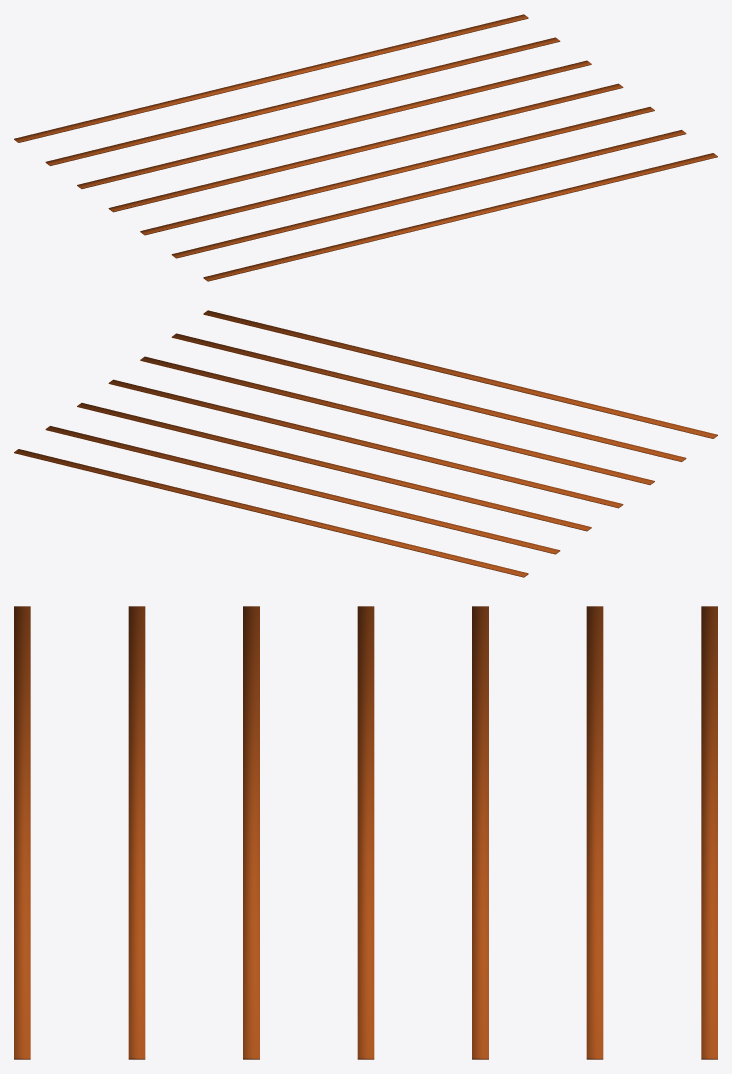
The model's file is 70_L99_Factory_Copper_Reference.fbx.
3 renders of one model, top to bottom at view 1: azimuth 30°, elevation 25°; view 2: azimuth 150°, elevation 25°; view 3: azimuth 270°, elevation 25°, orthographic. The views are drawn at different scales.
Parts seen in each view (by area): view 1: Part_000, Part_001, Part_005, Part_006, Part_002, Part_003, Part_004; view 2: Part_000, Part_001, Part_005, Part_006, Part_002, Part_003, Part_004; view 3: Part_001, Part_003, Part_005, Part_000, Part_002, Part_004, Part_006.
Boxes of the visible parts, x1,y1,x2,y2 form: Part_000: (203,153,717,281); Part_001: (171,130,686,258); Part_005: (45,37,560,165); Part_006: (14,14,528,142); Part_002: (140,107,654,235); Part_003: (108,83,623,212); Part_004: (77,60,591,188); Part_000: (203,310,717,438); Part_001: (171,333,686,461); Part_005: (45,426,560,554); Part_006: (14,449,528,577); Part_002: (140,356,654,484); Part_003: (108,379,623,508); Part_004: (77,403,591,531); Part_001: (128,606,145,1059); Part_003: (357,606,374,1059); Part_005: (586,606,603,1059); Part_000: (14,606,30,1059); Part_002: (243,606,259,1059); Part_004: (472,606,488,1059); Part_006: (701,606,717,1059).
Bounding box in the file's own units: 0.014 × 0.00922 × 2.5e-05.
